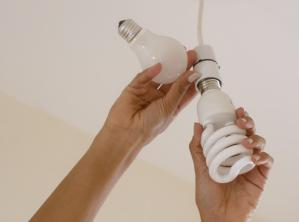Light_bulb: (112, 14, 191, 87), (197, 117, 264, 183)
